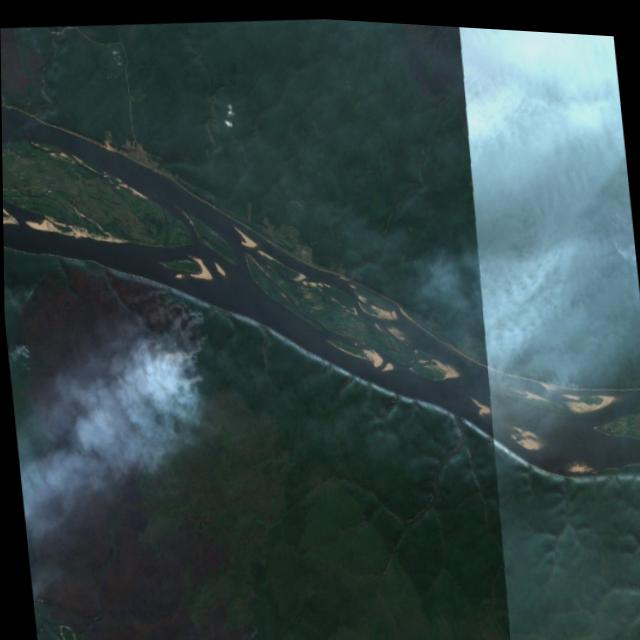fire: (130, 281, 223, 448), (599, 189, 636, 263)
